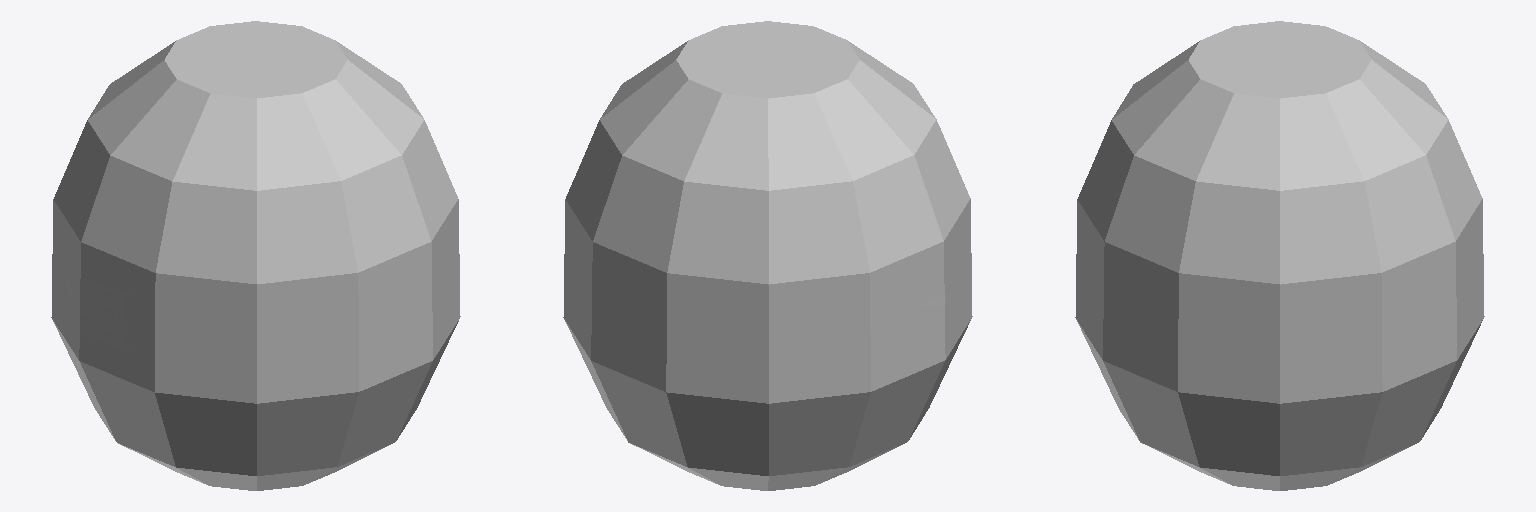
File: drone0.obj
3 views of the same model, side by side, from view 1: azimuth 30°, elevation 25°; view 2: azimuth 150°, elevation 25°; view 3: azimuth 270°, elevation 25° (orthographic).
Visible parts, largest first — view 1: Plane_Plane.001; view 2: Plane_Plane.001; view 3: Plane_Plane.001.
Boxes of the visible parts, <box> form: Plane_Plane.001: <box>51,21,460,490</box>; Plane_Plane.001: <box>563,21,972,490</box>; Plane_Plane.001: <box>1075,21,1484,490</box>.
Bounding box in the file's own units: 1.89 × 2 × 1.89.